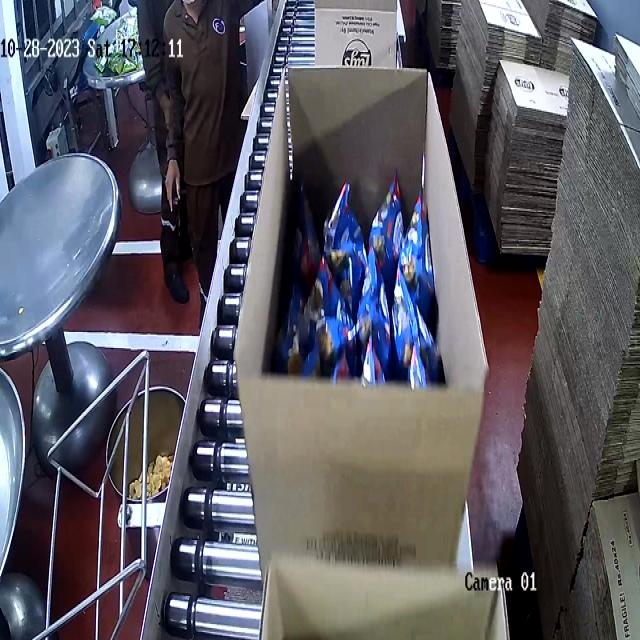PAPRIKA: (272, 180, 454, 387)
